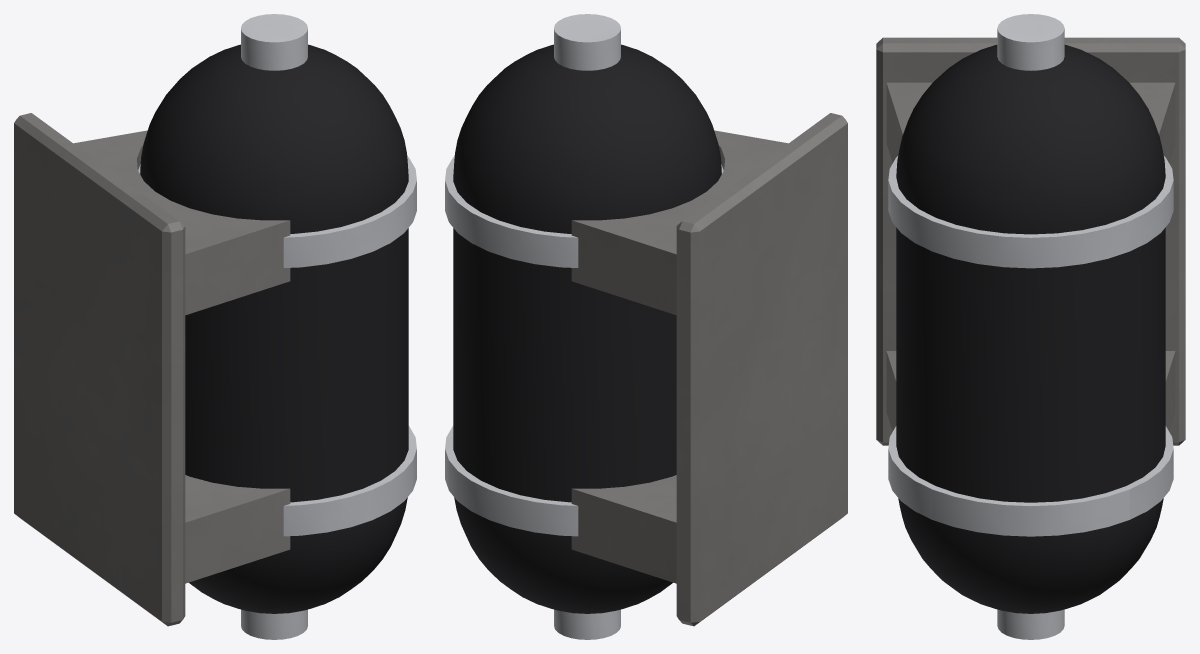
Rendered from ax_tank_14_helium_copv.glb.
The picture shows the model from 3 angles, left to right: view 1: azimuth 30°, elevation 25°; view 2: azimuth 150°, elevation 25°; view 3: azimuth 270°, elevation 25°; orthographic projection.
Visible parts, largest first — view 1: copv, saddle, straps, bosses; view 2: copv, saddle, straps, bosses; view 3: copv, saddle, straps, bosses.
Boxes of the visible parts, x1=… form: copv: x1=140, y1=44, x2=408, y2=613; saddle: x1=14, y1=113, x2=290, y2=626; straps: x1=138, y1=156, x2=416, y2=536; bosses: x1=241, y1=14, x2=307, y2=639; copv: x1=453, y1=44, x2=721, y2=613; saddle: x1=571, y1=113, x2=847, y2=626; straps: x1=445, y1=156, x2=723, y2=536; bosses: x1=554, y1=14, x2=620, y2=639; copv: x1=896, y1=44, x2=1165, y2=613; saddle: x1=876, y1=37, x2=1185, y2=445; straps: x1=888, y1=156, x2=1173, y2=536; bosses: x1=997, y1=14, x2=1064, y2=639.
Bounding box in the file's own units: 0.532 × 0.98 × 0.46.
Materials: 3 (2 with a texture image).
